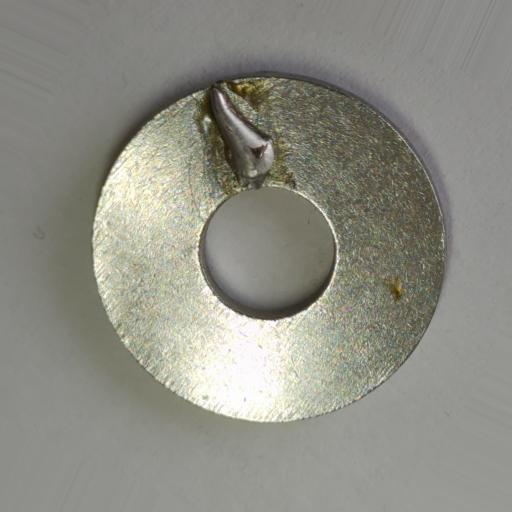excess_material: (209, 86, 275, 191)
